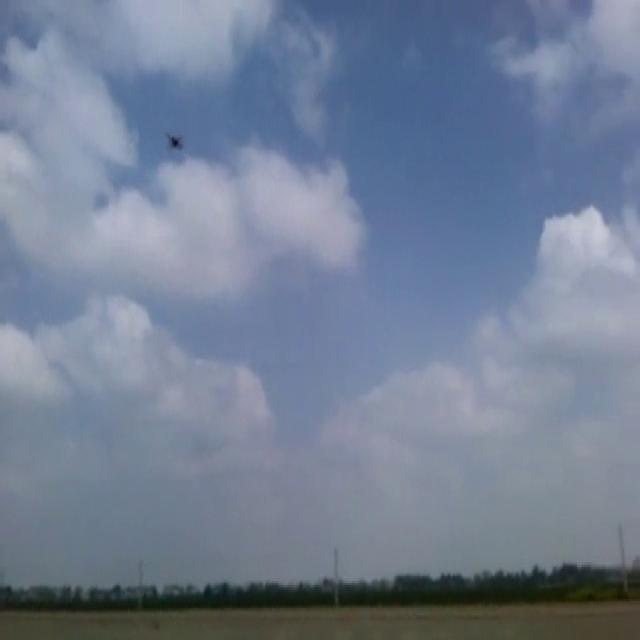drone: (164, 122, 185, 154)
